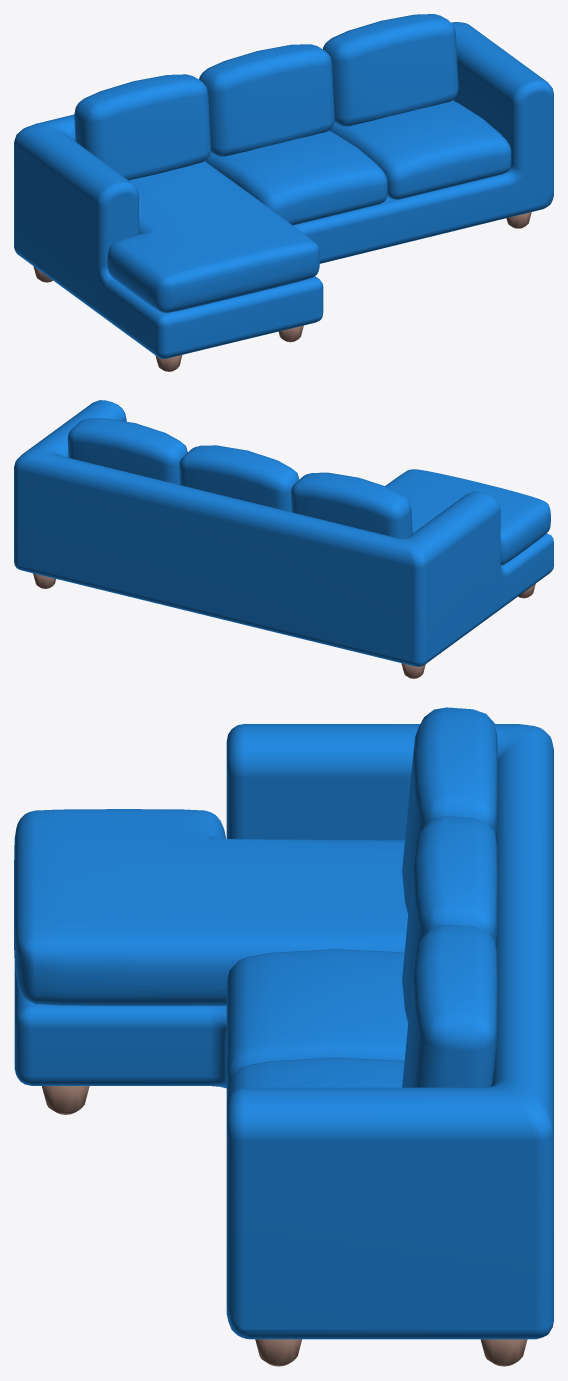
Rendered from Couch.fbx.
3 renders of one model, top to bottom at view 1: azimuth 30°, elevation 25°; view 2: azimuth 150°, elevation 25°; view 3: azimuth 270°, elevation 25°, orthographic. The views are drawn at different scales.
Visible parts, largest first — view 1: Couch; view 2: Couch; view 3: Couch.
Boxes of the visible parts, bbox=[...] form: Couch: bbox=[14, 14, 553, 371]; Couch: bbox=[14, 400, 553, 678]; Couch: bbox=[14, 707, 553, 1366].
Size of the model in its own units: 528 by 206 by 301.
